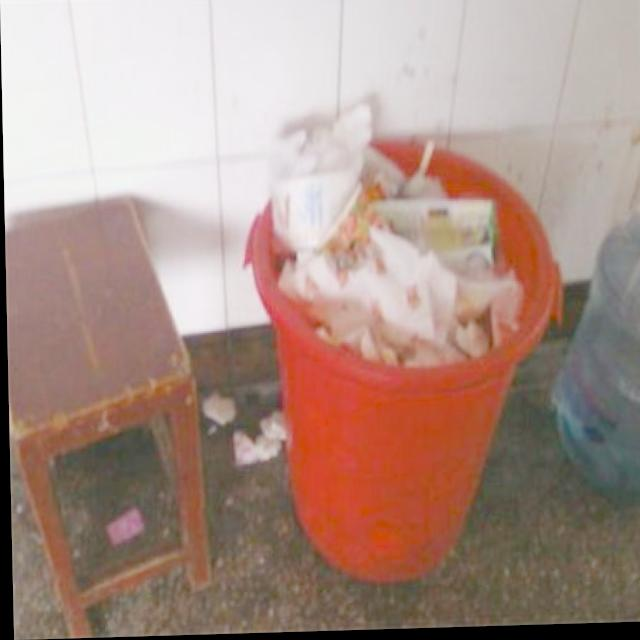overflow: (236, 99, 565, 586)
